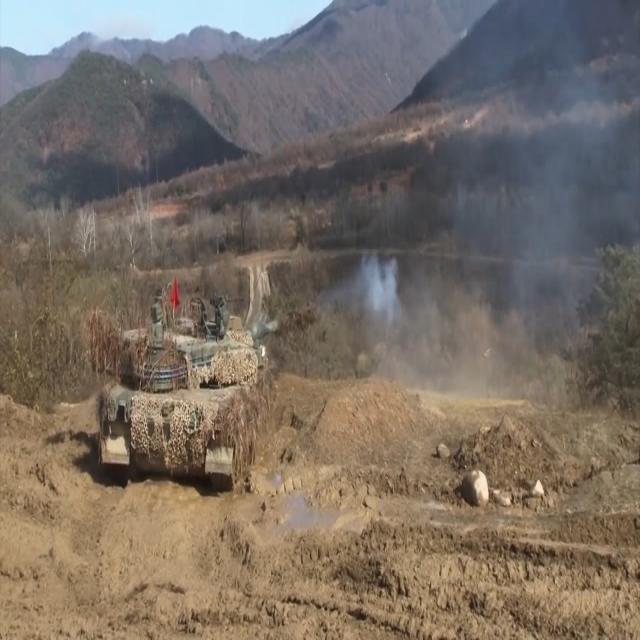korea tank: (79, 290, 317, 498)
